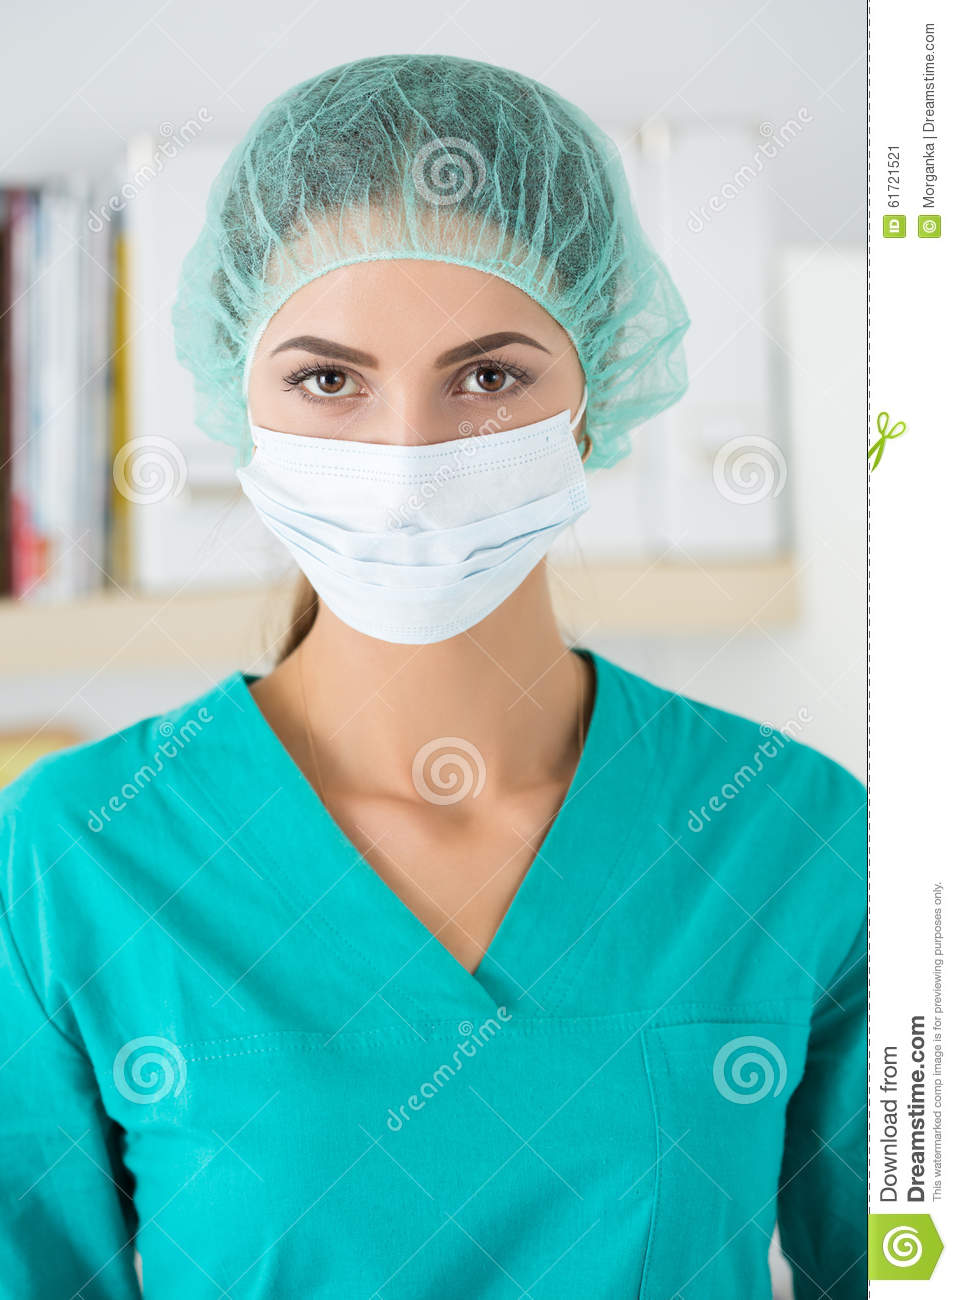mask: (249, 425, 580, 643)
